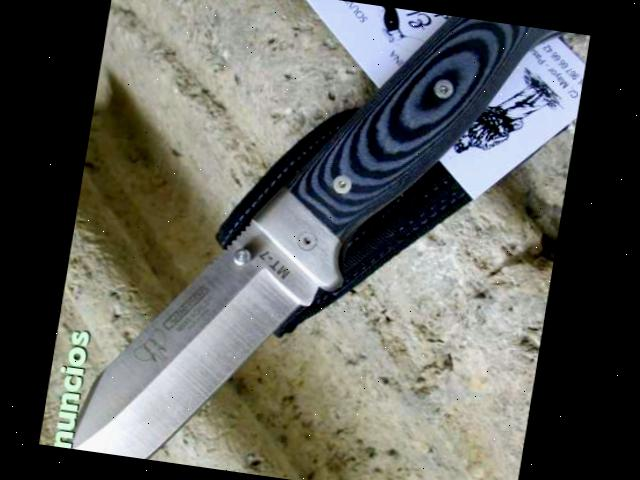pocket-knife: (41, 0, 579, 480)
